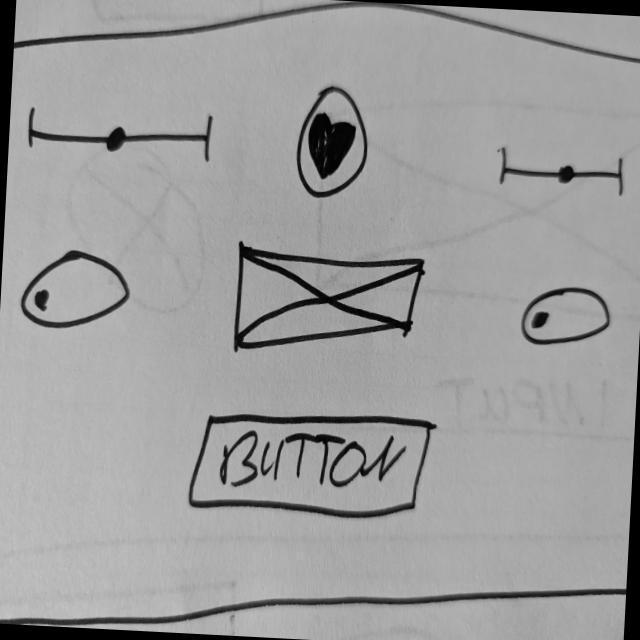button: (186, 404, 435, 527)
container: (1, 1, 640, 640)
icon-button: (293, 83, 377, 207)
image: (230, 243, 431, 368)
slider: (25, 102, 218, 166), (498, 145, 631, 202)
toggle: (19, 246, 135, 337), (519, 284, 616, 356)
